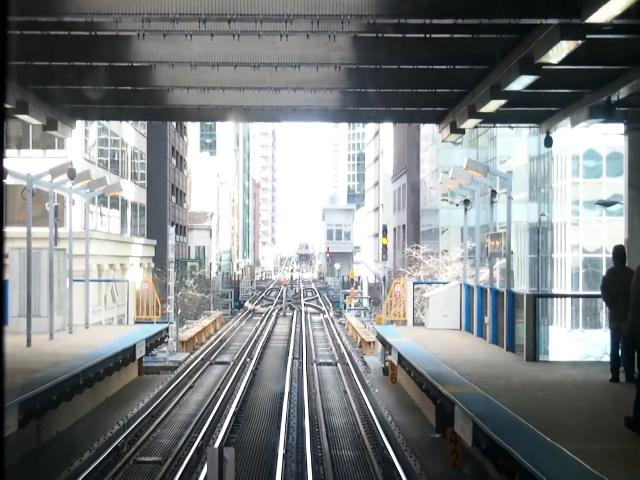signal light: (381, 224, 391, 263)
